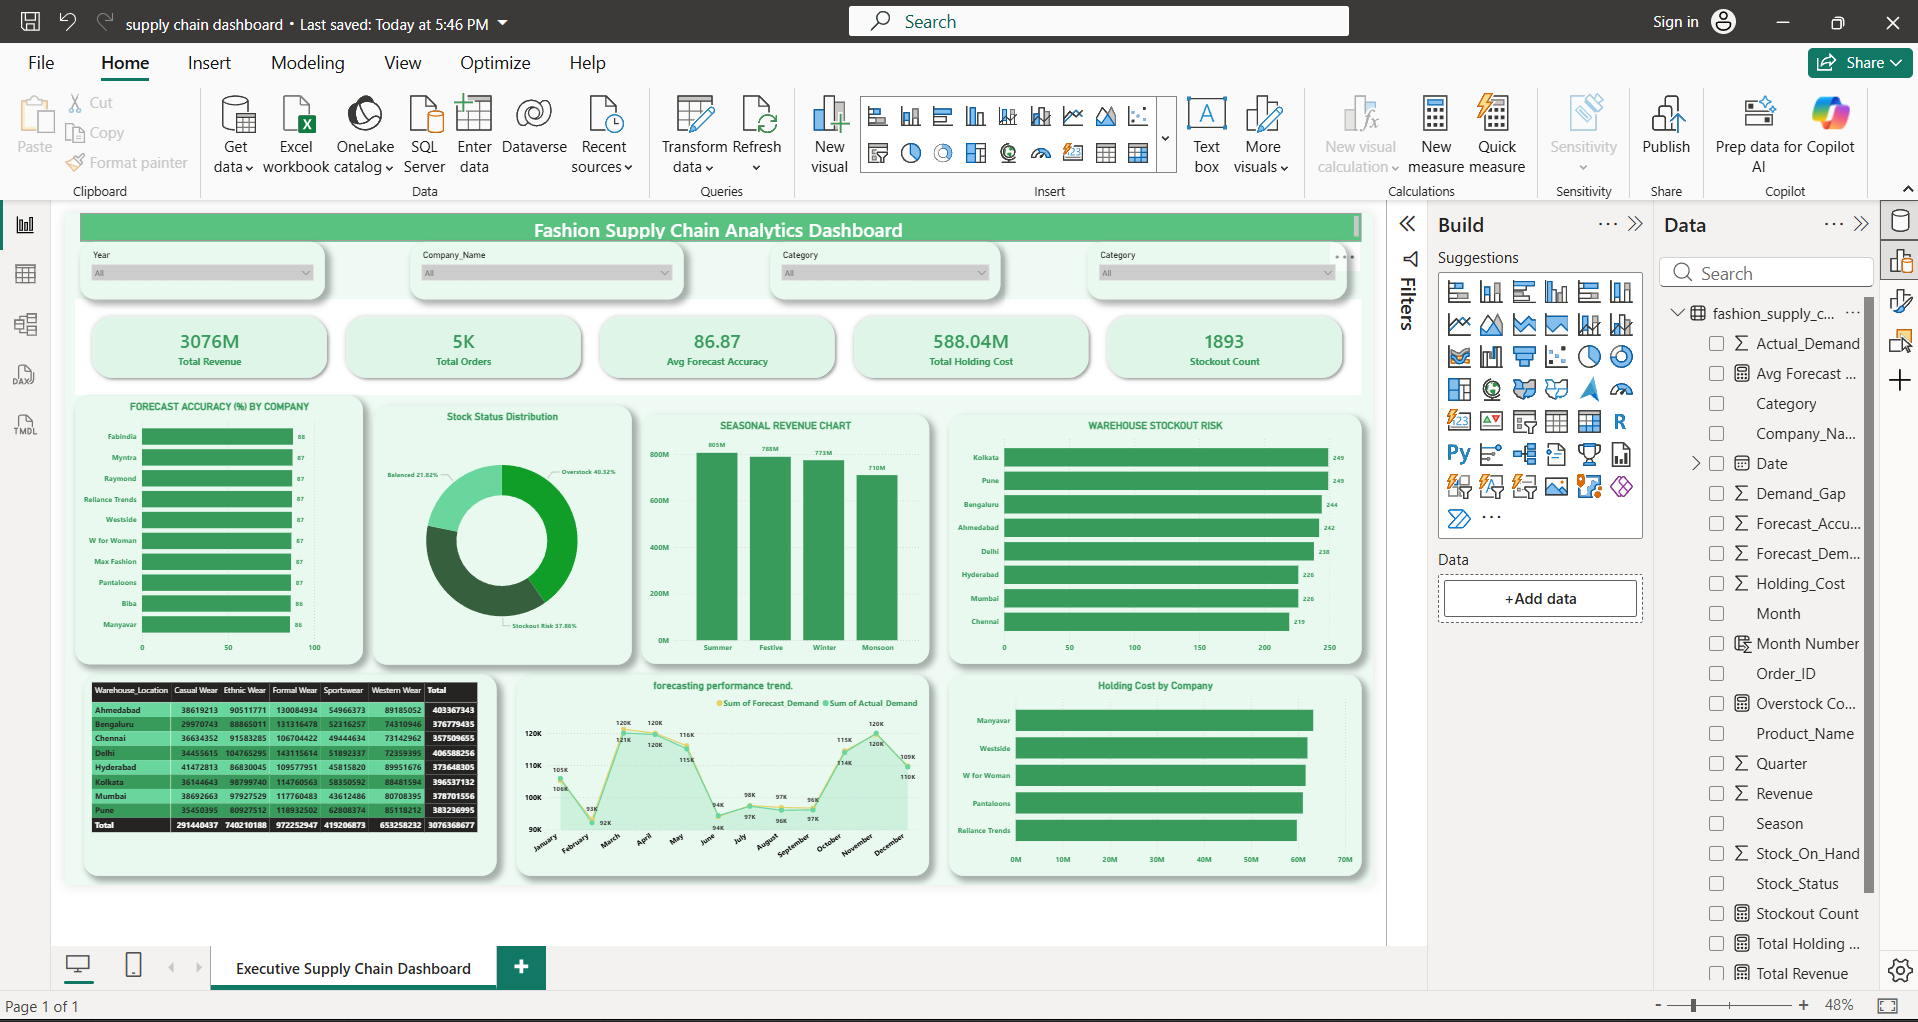

The page's visual inventory and layout, read from the dashboard file:
{"tool":"powerbi","page":{"name":"Executive Supply Chain Dashboard","canvas":[2180,1120],"ordinal":0},"visuals":[{"type":"textbox","box":[24,0,2136,48],"z":0},{"type":"cardVisual","fields":{"Data":["fashion_supply_chain inventory_data.Total Revenue","CountNonNull(fashion_supply_chain inventory_data.Order_ID)","fashion_supply_chain inventory_data.Avg Forecast Accuracy","fashion_supply_chain inventory_data.Total Holding Cost","fashion_supply_chain inventory_data.Stockout Count"]},"box":[16,144,2144,160],"z":1000},{"type":"lineChart","title":"forecasting performance trend.","fields":{"Y":["Sum(fashion_supply_chain inventory_data.Forecast_Demand)","Sum(fashion_supply_chain inventory_data.Actual_Demand)"],"Category":["fashion_supply_chain inventory_data.Month"]},"box":[752,768,688,336],"z":2000},{"type":"donutChart","title":"Stock Status Distribution","fields":{"Category":["fashion_supply_chain inventory_data.Stock_Status"],"Y":["CountNonNull(fashion_supply_chain inventory_data.Order_ID)"]},"box":[512,320,432,432],"z":3000},{"type":"clusteredBarChart","title":"Holding Cost by Company","fields":{"Category":["fashion_supply_chain inventory_data.Company_Name"],"Y":["Sum(fashion_supply_chain inventory_data.Holding_Cost)"]},"box":[1472,768,688,336],"z":4000},{"type":"clusteredColumnChart","title":"SEASONAL REVENUE CHART","fields":{"Category":["fashion_supply_chain inventory_data.Season"],"Y":["Sum(fashion_supply_chain inventory_data.Revenue)"]},"box":[960,336,480,416],"z":5000},{"type":"clusteredBarChart","title":"WAREHOUSE STOCKOUT RISK","fields":{"Category":["fashion_supply_chain inventory_data.Warehouse_Location"],"Y":["CountNonNull(fashion_supply_chain inventory_data.Order_ID)"]},"box":[1472,336,688,416],"z":6000},{"type":"barChart","title":"FORECAST ACCURACY (%) BY COMPANY","fields":{"Category":["fashion_supply_chain inventory_data.Company_Name"],"Y":["Avg(fashion_supply_chain inventory_data.Forecast_Accuracy_)"]},"box":[16,304,480,448],"z":7000},{"type":"pivotTable","fields":{"Rows":["fashion_supply_chain inventory_data.Warehouse_Location"],"Columns":["fashion_supply_chain inventory_data.Category"],"Values":["Sum(fashion_supply_chain inventory_data.Revenue)"]},"box":[32,768,688,336],"z":8000},{"type":"slicer","fields":{"Values":["fashion_supply_chain inventory_data.Year"]},"box":[24,48,408,96],"z":8001},{"type":"slicer","fields":{"Values":["fashion_supply_chain inventory_data.Category"]},"box":[1176,48,384,96],"z":8002},{"type":"slicer","fields":{"Values":["fashion_supply_chain inventory_data.Company_Name"]},"box":[576,48,456,96],"z":8003},{"type":"slicer","fields":{"Values":["fashion_supply_chain inventory_data.Category"]},"box":[1704,48,432,96],"z":8004}]}

Visuals, with their boxes on the page's 2180x1120 design canvas (x1, y1, x2, y2). These are canvas units, not pixel positions in the 1918x1022 screenshot, which may show the page scaled, cropped or inside an application window:
textbox: locate(24, 0, 2160, 48)
cardVisual - fashion_supply_chain inventory_data.Total Revenue x CountNonNull(fashion_supply_chain inventory_data.Order_ID): locate(16, 144, 2160, 304)
"forecasting performance trend." lineChart: locate(752, 768, 1440, 1104)
"Stock Status Distribution" donutChart: locate(512, 320, 944, 752)
"Holding Cost by Company" clusteredBarChart: locate(1472, 768, 2160, 1104)
"SEASONAL REVENUE CHART" clusteredColumnChart: locate(960, 336, 1440, 752)
"WAREHOUSE STOCKOUT RISK" clusteredBarChart: locate(1472, 336, 2160, 752)
"FORECAST ACCURACY (%) BY COMPANY" barChart: locate(16, 304, 496, 752)
pivotTable - fashion_supply_chain inventory_data.Warehouse_Location x fashion_supply_chain inventory_data.Category: locate(32, 768, 720, 1104)
slicer - fashion_supply_chain inventory_data.Year: locate(24, 48, 432, 144)
slicer - fashion_supply_chain inventory_data.Category: locate(1176, 48, 1560, 144)
slicer - fashion_supply_chain inventory_data.Company_Name: locate(576, 48, 1032, 144)
slicer - fashion_supply_chain inventory_data.Category: locate(1704, 48, 2136, 144)
